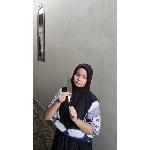Pisau: (65, 71, 77, 115)
